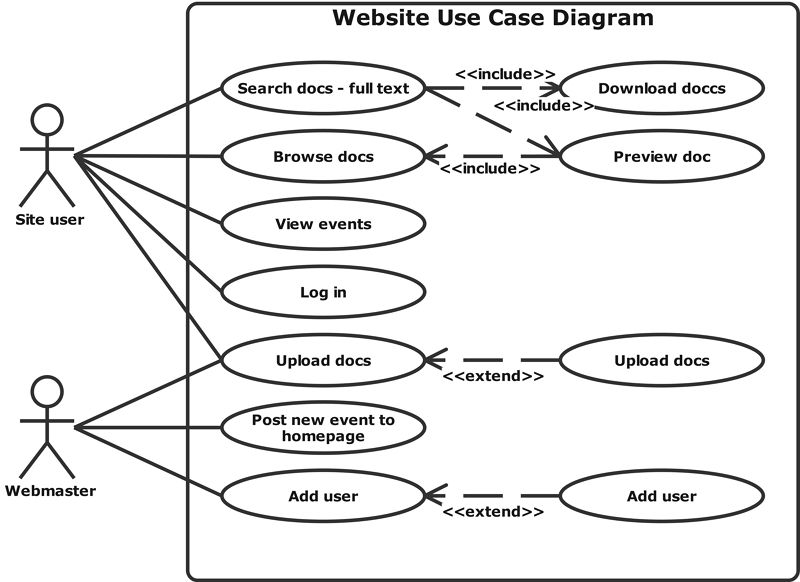actor: (16, 372, 83, 482), (16, 100, 78, 209)
association: (83, 168, 220, 357), (92, 169, 220, 290), (427, 85, 561, 161), (74, 359, 218, 426), (84, 87, 219, 154), (86, 430, 218, 495), (84, 161, 220, 223), (425, 141, 562, 168), (423, 480, 555, 508), (421, 346, 561, 371), (427, 77, 561, 102), (82, 150, 219, 160), (77, 423, 216, 431)
text: (331, 6, 664, 29), (249, 412, 398, 444), (234, 77, 412, 98), (271, 350, 385, 376), (608, 146, 715, 170), (266, 146, 393, 166), (598, 77, 729, 96), (440, 503, 548, 524), (271, 213, 378, 234), (438, 160, 547, 180), (2, 481, 101, 503), (280, 484, 363, 508), (611, 351, 715, 370), (492, 96, 596, 114), (439, 368, 549, 385), (622, 485, 706, 506), (454, 65, 556, 81), (294, 282, 359, 303), (13, 212, 86, 229)
use_case: (218, 466, 428, 526), (556, 330, 766, 390), (219, 127, 428, 186), (219, 398, 428, 457), (557, 58, 766, 117), (557, 127, 766, 186), (220, 59, 428, 118), (219, 262, 427, 320), (218, 195, 429, 252), (558, 467, 765, 525), (220, 332, 428, 389)
